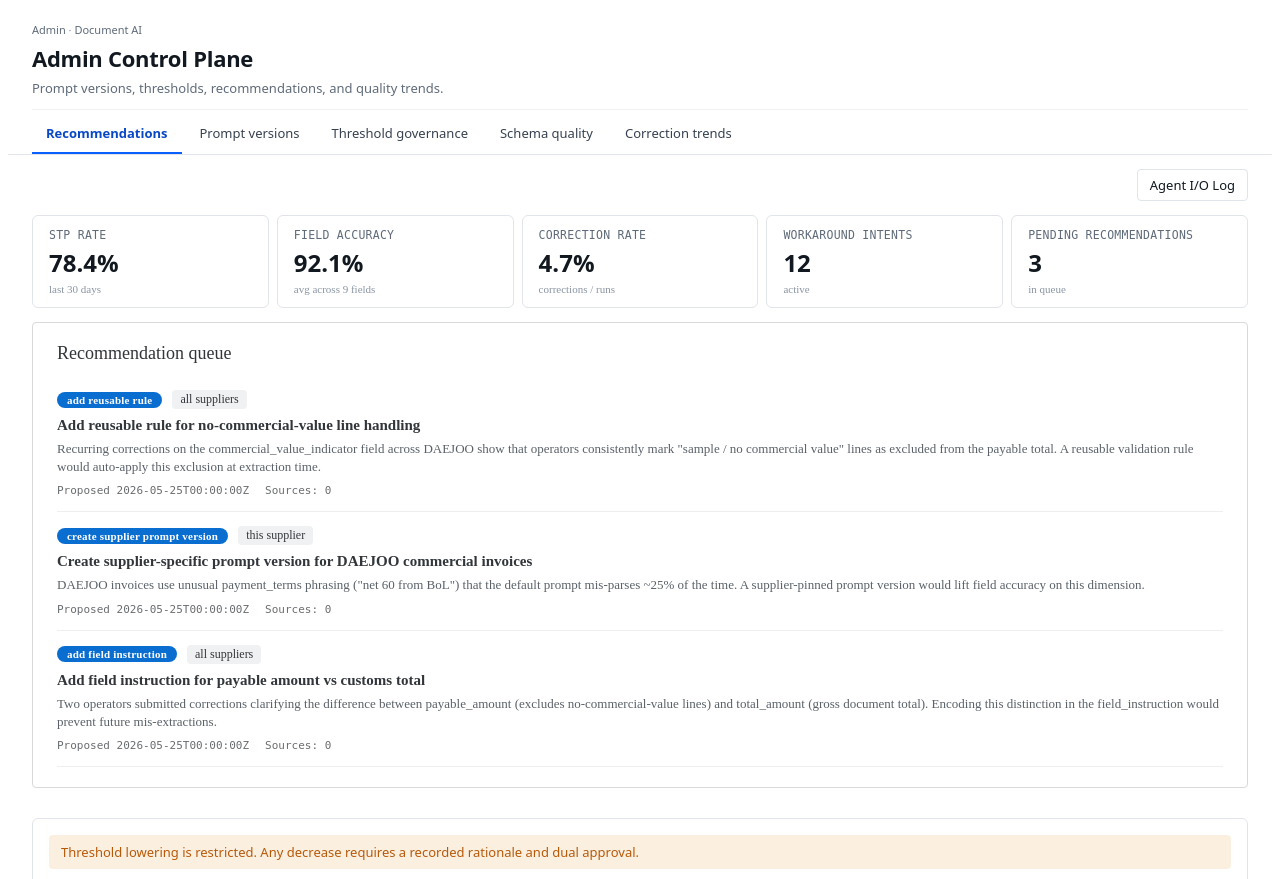
Scenario: F-30 AdminRoute — Agent I/O Log entry point › mounts the agent-io-log-panel inline on /admin when the button is clicked
Click the button with test id "admin-agent-io-log-button". click: (1192, 185)
box: [1137, 169, 1248, 201]
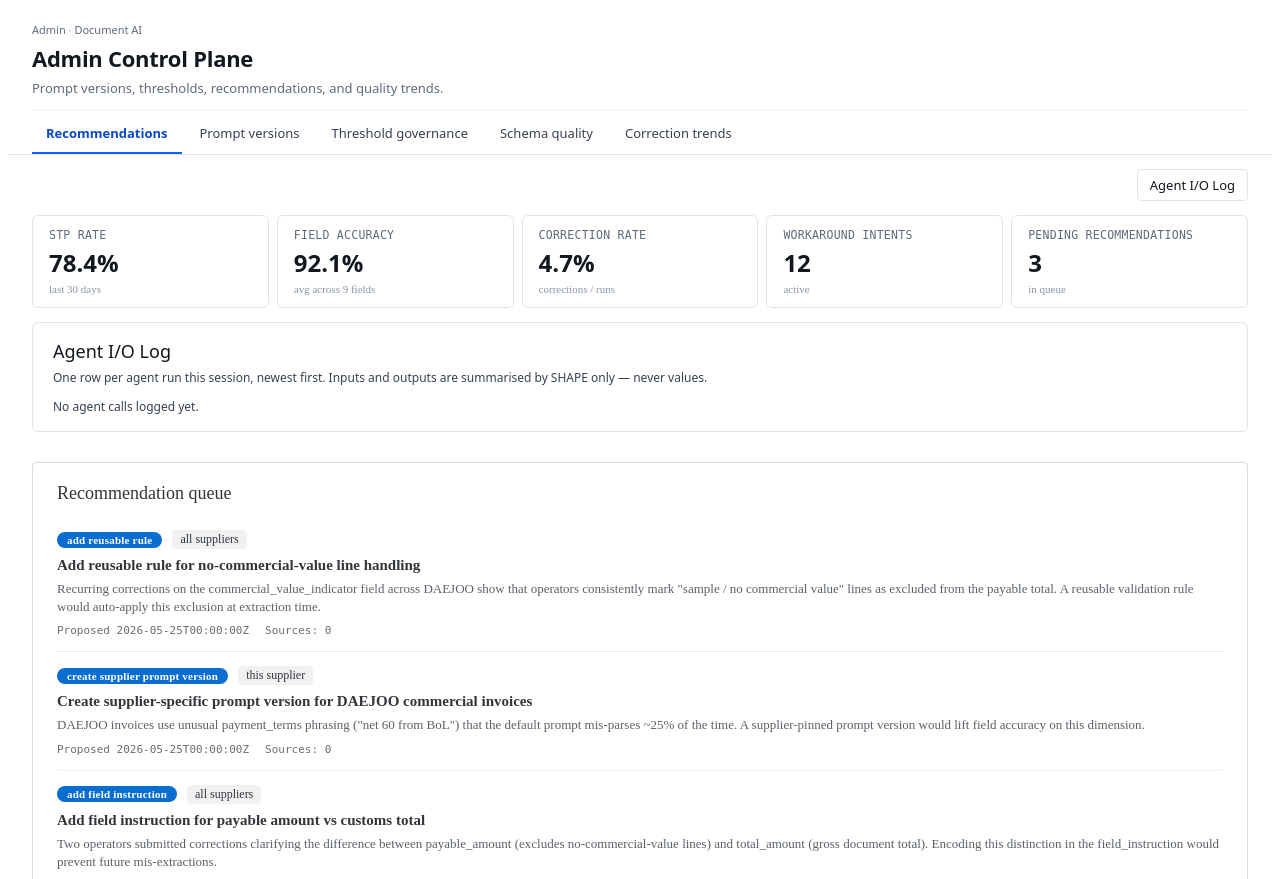
Now the element with test id "agent-io-log-panel" is shown, box [32, 322, 1248, 432]
